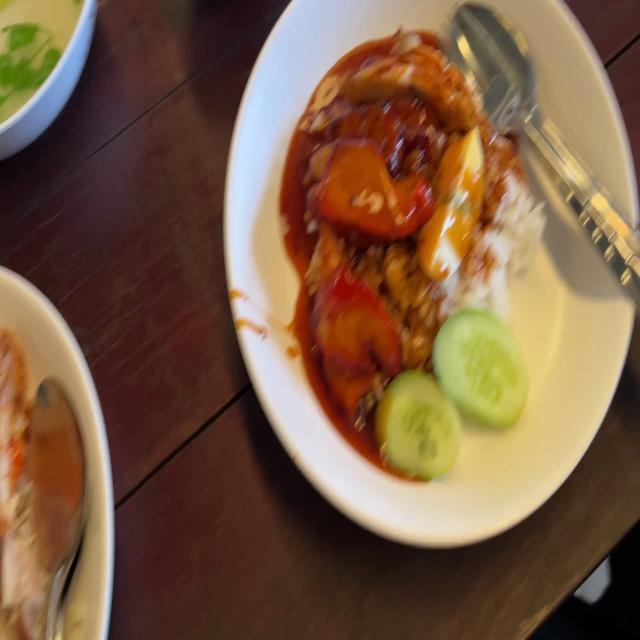red_pork_and_crispy_pork: (422, 130, 487, 284)
stir_fried_basil: (341, 87, 429, 162)
